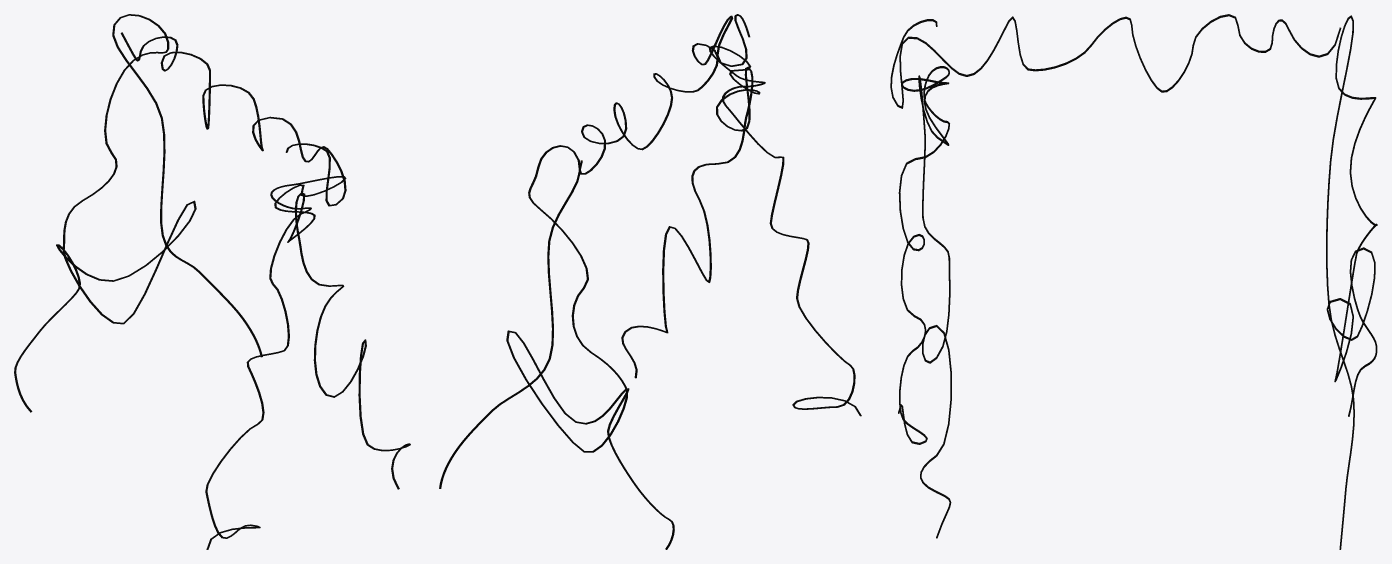
Rendered from cable_material_0_0.glb.
The picture shows the model from 3 angles, left to right: view 1: azimuth 30°, elevation 25°; view 2: azimuth 150°, elevation 25°; view 3: azimuth 270°, elevation 25°; orthographic projection. The views are drawn at different scales.
Visible parts, largest first — view 1: cable_Material_0_0; view 2: cable_Material_0_0; view 3: cable_Material_0_0.
Boxes of the visible parts, x1,y1,x2,y2 form: cable_Material_0_0: (14,14,410,549); cable_Material_0_0: (439,14,861,549); cable_Material_0_0: (890,14,1377,549).
Bounding box in the file's own units: 1.53 × 2.3 × 2.2.
Materials: 1 (1 with a texture image).
